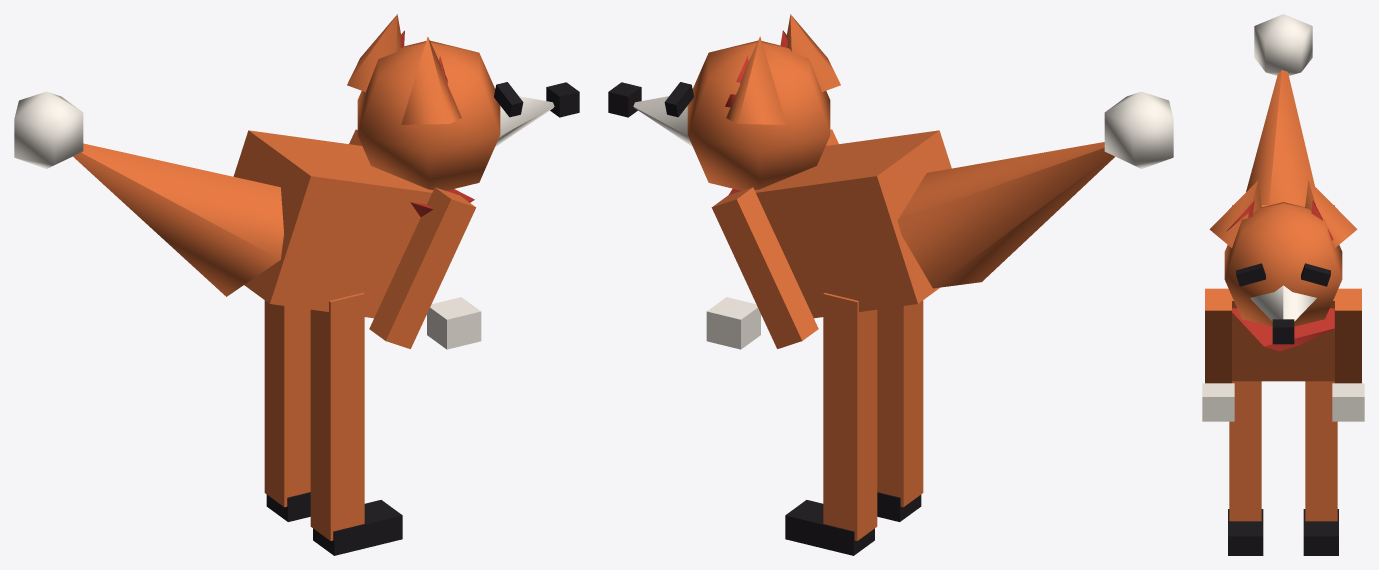
Rendered from enemy_swarm.glb.
The picture shows the model from 3 angles, left to right: view 1: azimuth 30°, elevation 25°; view 2: azimuth 150°, elevation 25°; view 3: azimuth 270°, elevation 25°; orthographic projection. The views are drawn at different scales.
Parts seen in each view (by area): view 1: torso, tail, head, leg_l_mesh, leg_r_mesh, arm_l_mesh, tail_tip, ear_l, foot_l, paw_l, ear_r, muzzle (+3 smaller); view 2: torso, tail, head, leg_r_mesh, leg_l_mesh, arm_r_mesh, tail_tip, ear_r, foot_r, paw_r, ear_l, muzzle (+3 smaller); view 3: head, tail, torso, leg_l_mesh, leg_r_mesh, tail_tip, arm_l_mesh, arm_r_mesh, bib, muzzle, foot_l, foot_r (+7 smaller).
Part boxes in pixels (<box>): torso: <box>233,130,433,318</box>; tail: <box>73,143,283,296</box>; head: <box>357,40,500,190</box>; leg_l_mesh: <box>310,293,364,540</box>; leg_r_mesh: <box>264,300,310,507</box>; arm_l_mesh: <box>369,187,476,348</box>; tail_tip: <box>14,91,83,168</box>; ear_l: <box>401,36,461,124</box>; foot_l: <box>313,500,402,555</box>; paw_l: <box>427,297,481,349</box>; ear_r: <box>347,14,400,91</box>; muzzle: <box>495,96,554,146</box>; torso: <box>754,130,951,318</box>; tail: <box>897,142,1114,288</box>; head: <box>687,40,830,190</box>; leg_r_mesh: <box>823,293,877,540</box>; leg_l_mesh: <box>877,300,923,507</box>; arm_r_mesh: <box>711,187,818,348</box>; tail_tip: <box>1104,91,1173,168</box>; ear_r: <box>726,36,786,124</box>; foot_r: <box>785,500,874,555</box>; paw_r: <box>706,297,760,349</box>; ear_l: <box>786,14,840,91</box>; muzzle: <box>633,96,692,146</box>; head: <box>1224,202,1342,326</box>; tail: <box>1246,70,1314,204</box>; torso: <box>1232,205,1334,381</box>; leg_l_mesh: <box>1229,381,1261,521</box>; leg_r_mesh: <box>1305,381,1337,521</box>; tail_tip: <box>1254,14,1312,75</box>; arm_l_mesh: <box>1205,288,1231,383</box>; arm_r_mesh: <box>1335,288,1361,383</box>; bib: <box>1232,308,1334,351</box>; muzzle: <box>1250,285,1316,321</box>; foot_l: <box>1228,509,1263,555</box>; foot_r: <box>1303,509,1338,555</box>.
Size of the model in its own units: 0.1958 by 0.168 by 0.06.
